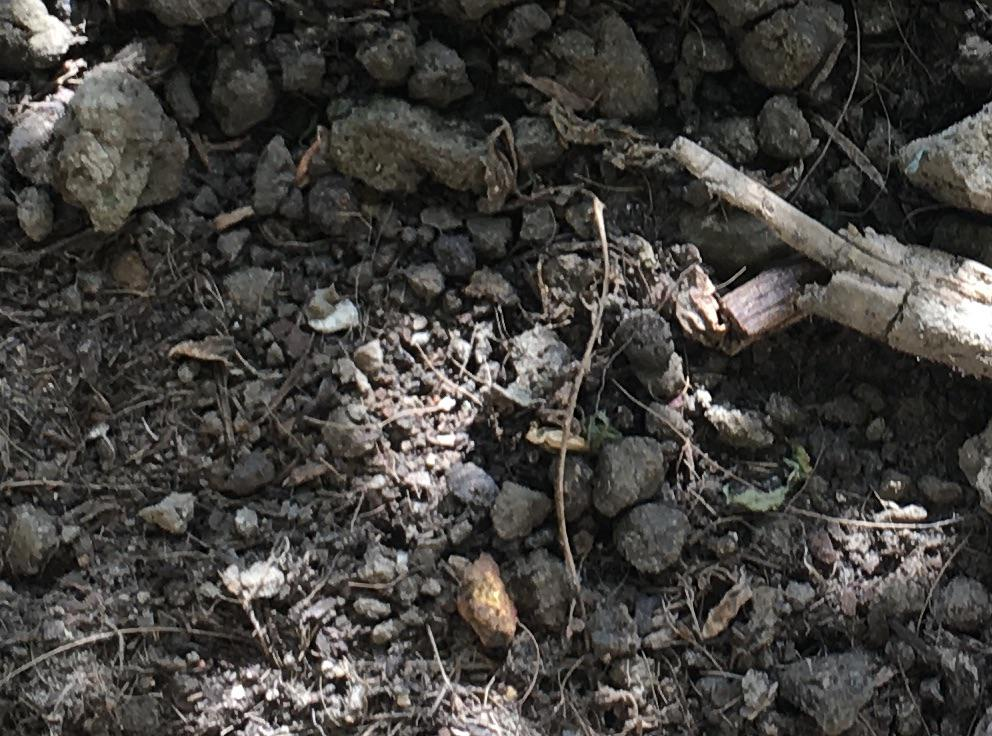block: (9, 69, 190, 234), (332, 96, 511, 203), (538, 8, 663, 123), (891, 97, 992, 216)
